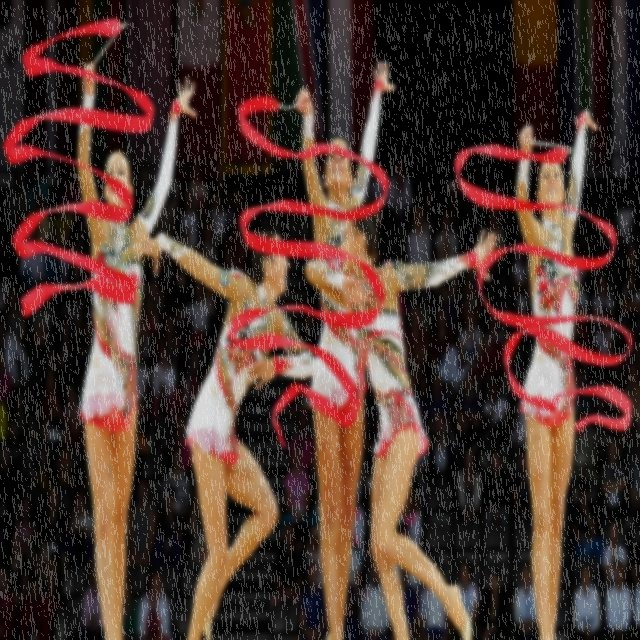pessoa: (302, 196, 500, 640), (132, 220, 318, 640), (72, 53, 200, 640), (290, 52, 398, 640), (512, 105, 601, 640), (458, 198, 534, 640), (570, 194, 638, 566), (136, 156, 210, 462), (398, 303, 458, 640), (0, 440, 70, 638), (0, 174, 70, 312), (344, 391, 378, 637), (72, 214, 92, 574), (30, 316, 70, 440), (264, 578, 326, 640), (0, 314, 30, 442), (127, 475, 155, 601), (431, 202, 458, 330), (212, 162, 240, 278), (358, 550, 394, 640), (407, 202, 430, 336), (282, 441, 310, 551), (137, 570, 176, 640), (601, 438, 626, 543), (152, 342, 176, 445), (604, 558, 634, 640), (442, 316, 474, 392), (572, 562, 602, 640), (298, 560, 327, 640), (512, 560, 540, 640), (123, 500, 139, 640), (77, 567, 106, 640), (486, 443, 506, 542), (163, 444, 190, 516), (192, 463, 207, 589), (602, 519, 628, 589), (554, 510, 568, 638), (482, 566, 506, 640), (458, 448, 481, 523), (420, 583, 448, 640), (168, 566, 190, 638), (275, 522, 298, 589), (388, 154, 412, 218), (0, 391, 30, 439), (458, 560, 480, 618), (398, 565, 416, 628), (368, 164, 384, 233), (122, 578, 134, 640), (442, 164, 459, 194), (72, 575, 80, 638), (633, 570, 640, 637)
